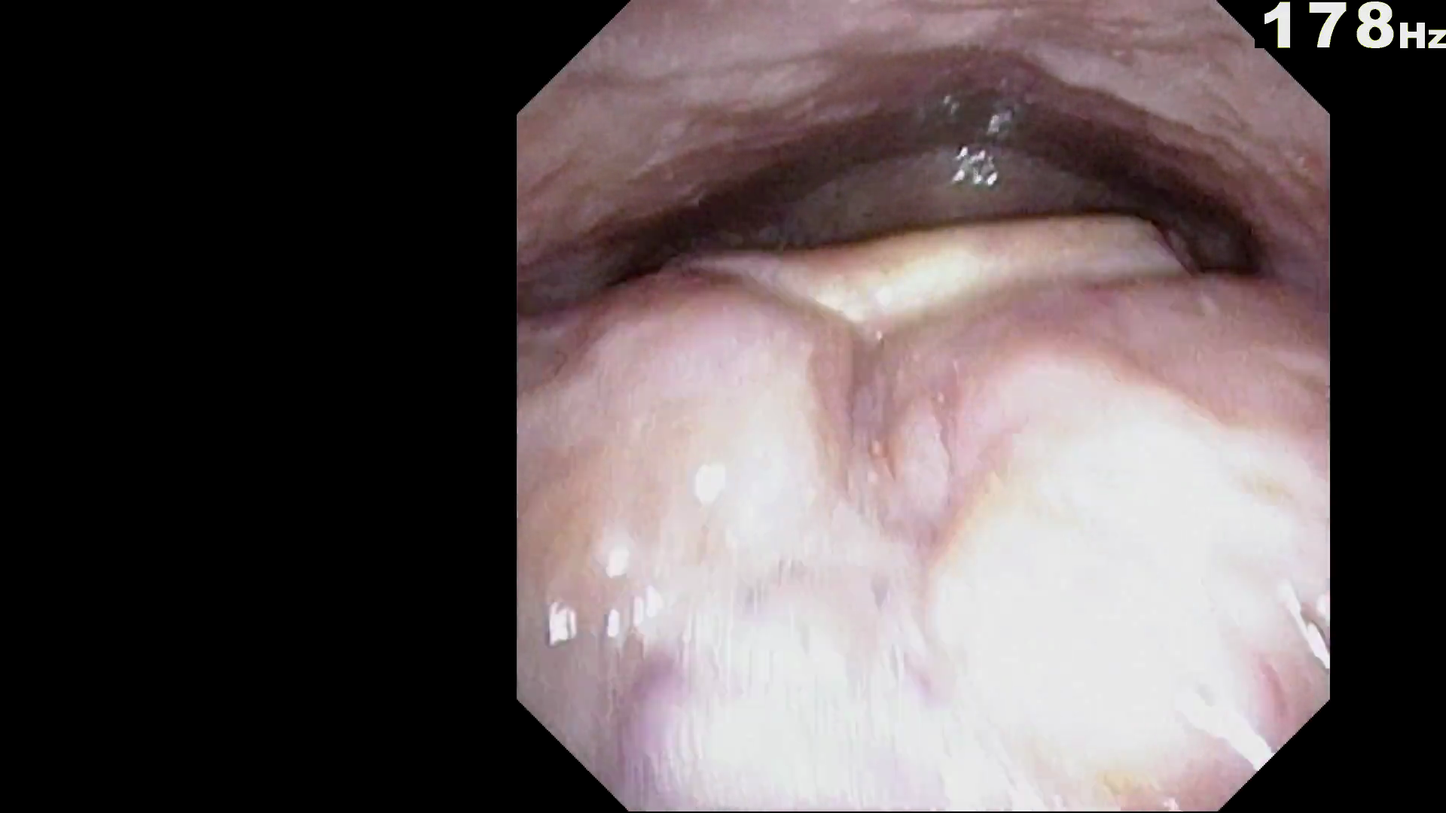epiglottis: (661, 209, 1201, 363)
trachea: (893, 252, 983, 358)
